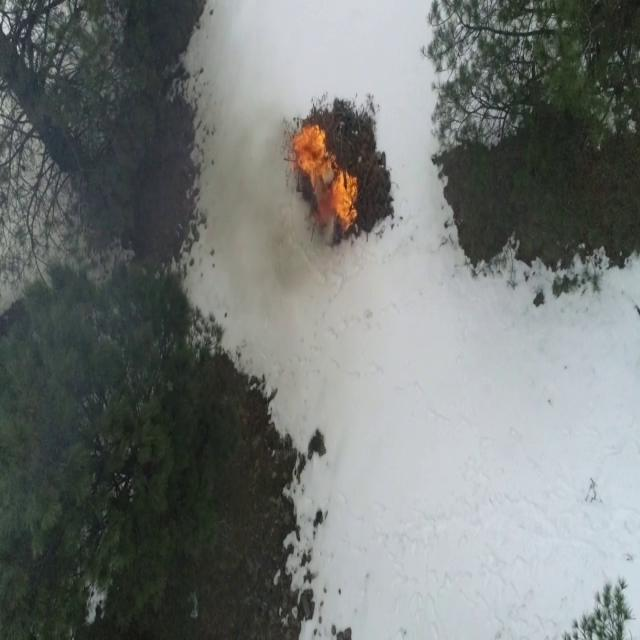fire: (289, 122, 329, 185), (323, 171, 361, 234)
